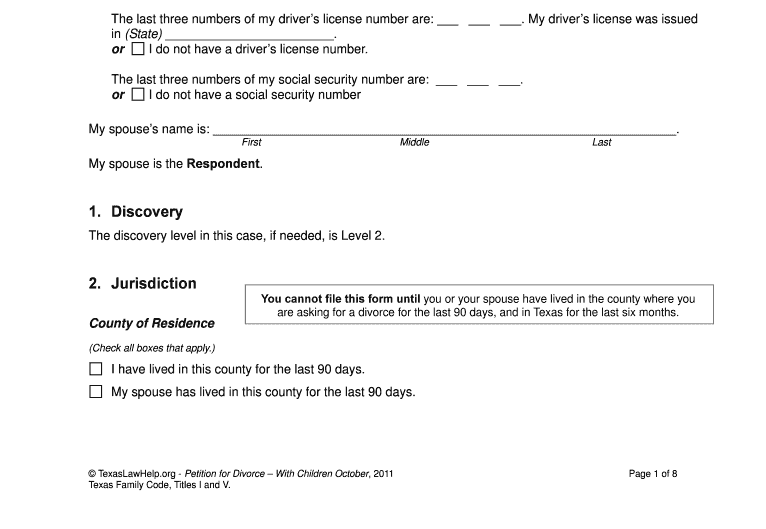checkbox: (87, 358, 104, 377), (87, 381, 104, 400), (130, 42, 146, 57), (130, 85, 146, 100)
textline: (212, 120, 681, 137), (164, 25, 336, 42), (434, 10, 460, 28), (466, 10, 492, 28), (497, 10, 523, 28), (497, 69, 523, 87), (465, 69, 491, 87), (433, 69, 459, 87)
